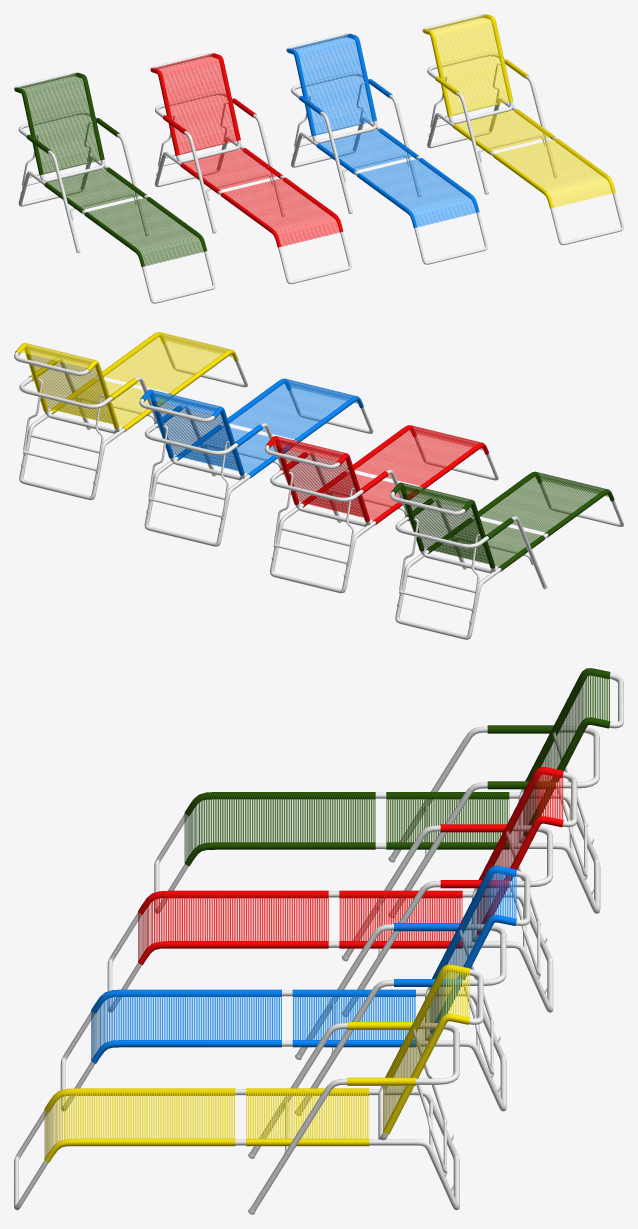
3 views of the same model, one above another, from view 1: azimuth 30°, elevation 25°; view 2: azimuth 150°, elevation 25°; view 3: azimuth 270°, elevation 25° (orthographic). The views are drawn at different scales.
Parts seen in each view (by area): view 1: poolChair_Green, poolChair_Blue, poolChair_Yellow, poolChair_Red, poolChairRest_Green, poolChairRest.002, poolChairRest.003, poolChairRest.001; view 2: poolChair_Green, poolChair_Yellow, poolChair_Blue, poolChair_Red, poolChairRest.001, poolChairRest.002, poolChairRest_Green, poolChairRest.003, poolChairSupport, poolChairSupport.002, poolChairSupport.003, poolChairSupport.001; view 3: poolChair_Yellow, poolChair_Blue, poolChair_Red, poolChair_Green, poolChairRest.003, poolChairRest.001, poolChairRest.002, poolChairRest_Green, poolChairSupport.003.
Part boxes in pixels (x1=…): poolChair_Green: x1=18, y1=111, x2=215, y2=303; poolChair_Blue: x1=291, y1=72, x2=487, y2=264; poolChair_Yellow: x1=427, y1=52, x2=623, y2=245; poolChair_Red: x1=154, y1=91, x2=351, y2=284; poolChairRest_Green: x1=14, y1=72, x2=104, y2=182; poolChairRest.002: x1=286, y1=33, x2=377, y2=143; poolChairRest.003: x1=422, y1=14, x2=513, y2=124; poolChairRest.001: x1=150, y1=53, x2=241, y2=162; poolChair_Green: x1=395, y1=471, x2=623, y2=639; poolChair_Yellow: x1=19, y1=332, x2=247, y2=500; poolChair_Blue: x1=144, y1=378, x2=373, y2=546; poolChair_Red: x1=270, y1=425, x2=498, y2=593; poolChairRest.001: x1=264, y1=436, x2=370, y2=526; poolChairRest.002: x1=139, y1=389, x2=244, y2=480; poolChairRest_Green: x1=390, y1=482, x2=495, y2=573; poolChairRest.003: x1=14, y1=343, x2=119, y2=433; poolChairSupport: x1=399, y1=518, x2=480, y2=610; poolChairSupport.002: x1=148, y1=425, x2=229, y2=517; poolChairSupport.003: x1=23, y1=378, x2=104, y2=470; poolChairSupport.001: x1=274, y1=471, x2=354, y2=563; poolChair_Yellow: x1=14, y1=1022, x2=459, y2=1214; poolChair_Blue: x1=60, y1=923, x2=506, y2=1115; poolChair_Red: x1=107, y1=824, x2=553, y2=1017; poolChair_Green: x1=154, y1=725, x2=600, y2=918; poolChairRest.003: x1=378, y1=964, x2=483, y2=1140; poolChairRest.001: x1=472, y1=767, x2=577, y2=942; poolChairRest.002: x1=425, y1=865, x2=530, y2=1040; poolChairRest_Green: x1=518, y1=668, x2=623, y2=843; poolChairSupport.003: x1=412, y1=1029, x2=446, y2=1173.
Size of the model in its own units: 3.6 by 0.9303 by 2.61.
Materials: 4 (4 with a texture image).
